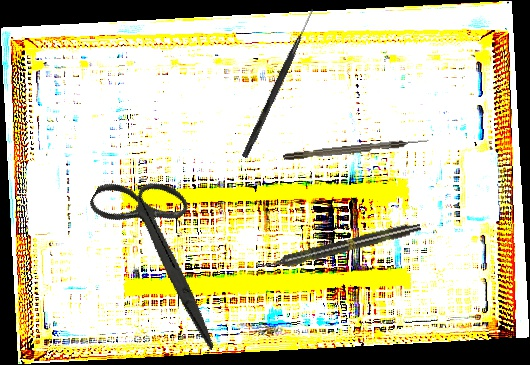Handpiece: (260, 219, 422, 274)
Hook Surgical: (241, 6, 316, 160), (282, 137, 430, 161)
Iris Scissors: (54, 155, 272, 352)
